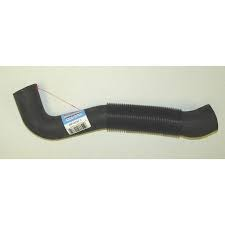radiator_hose: (12, 83, 219, 138)
